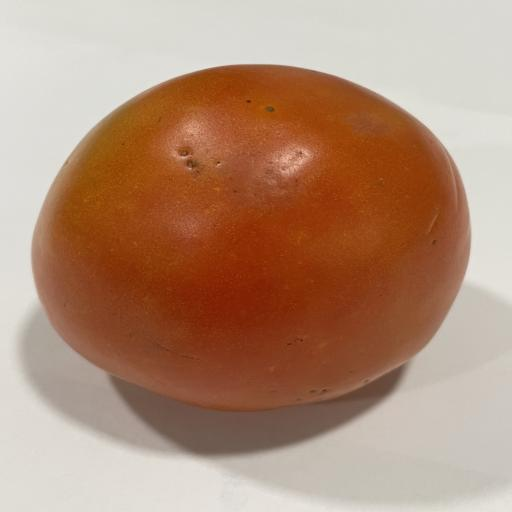unripe: (33, 65, 470, 411)
